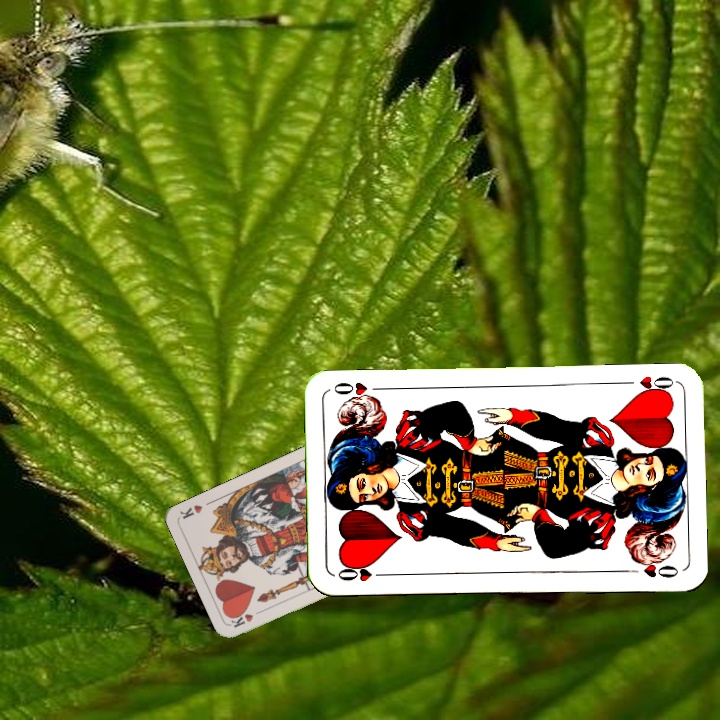HK: (228, 605, 267, 630)
HO: (619, 372, 677, 398), (333, 562, 391, 584)
